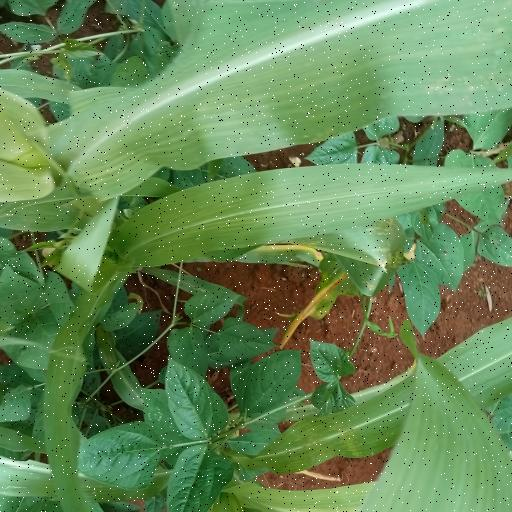Corn_Brown_Spots: (38, 0, 511, 274)
